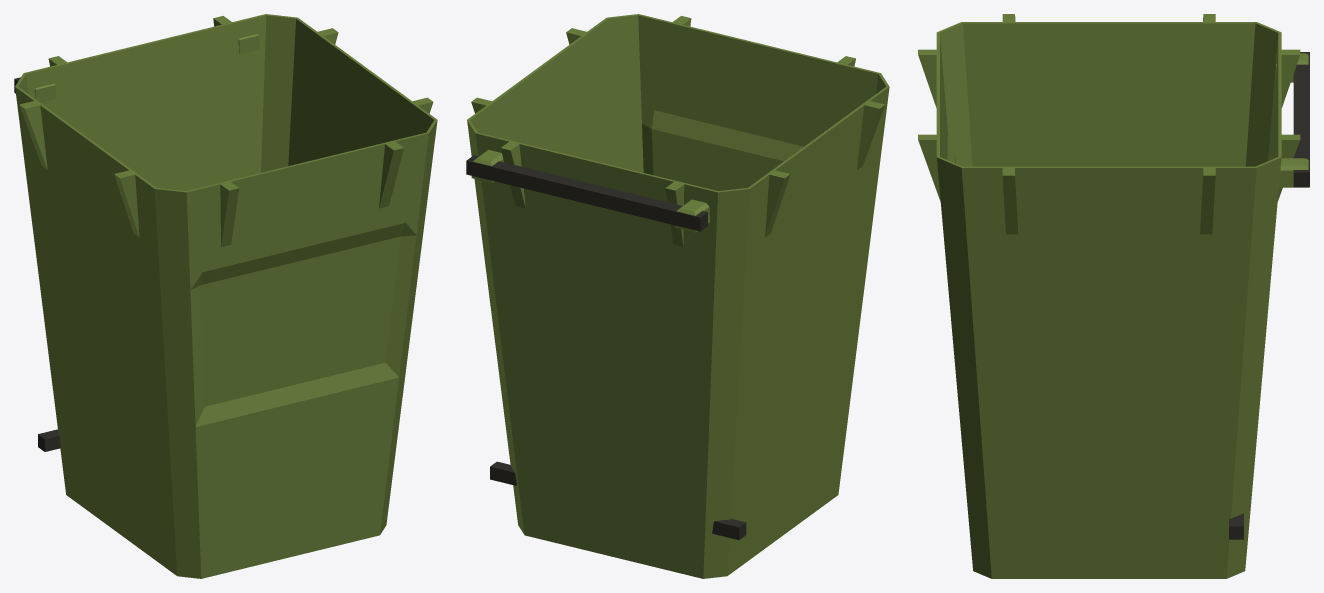
The model's file is SM_Clutter_WheelieBin_Body_Green_01.fbx.
3 views of the same model, side by side, from view 1: azimuth 30°, elevation 25°; view 2: azimuth 150°, elevation 25°; view 3: azimuth 270°, elevation 25° (orthographic). The views are drawn at different scales.
Visible parts, largest first — view 1: SM_Clutter_WheelieBin_Body_Green_01; view 2: SM_Clutter_WheelieBin_Body_Green_01; view 3: SM_Clutter_WheelieBin_Body_Green_01.
Boxes of the visible parts, x1,y1,x2,y2 form: SM_Clutter_WheelieBin_Body_Green_01: (14,14,437,578); SM_Clutter_WheelieBin_Body_Green_01: (466,14,889,578); SM_Clutter_WheelieBin_Body_Green_01: (918,14,1309,578).
Bounding box in the file's own units: 0.6162 × 0.764 × 0.6305.
Materials: 1 (1 with a texture image).
